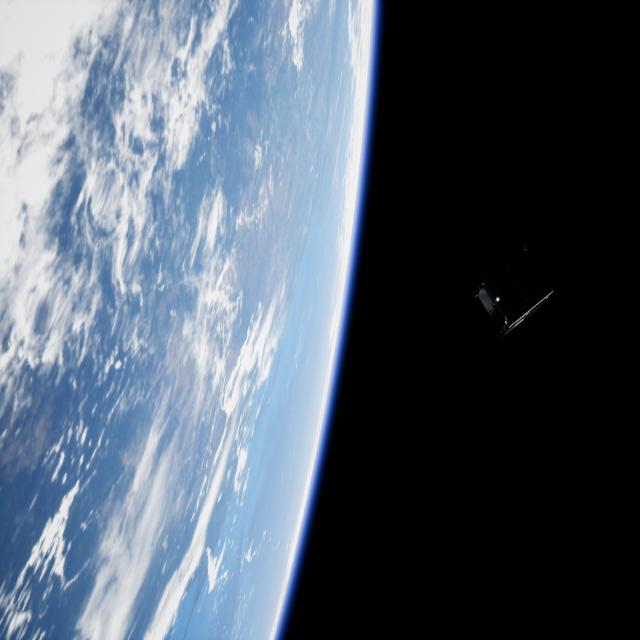medium_debris: (473, 247, 568, 344)
